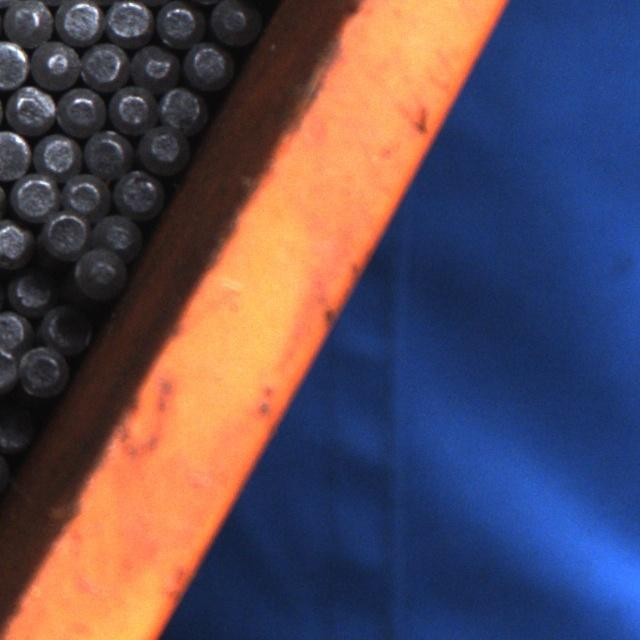tool: (70, 246, 126, 298), (37, 300, 92, 352), (15, 344, 66, 395), (56, 85, 105, 135), (30, 38, 79, 88), (112, 167, 162, 216), (11, 171, 60, 220), (182, 41, 231, 90), (5, 84, 55, 132), (136, 122, 184, 172), (80, 39, 129, 87), (39, 210, 88, 258), (207, 0, 258, 46), (6, 268, 54, 316), (82, 127, 130, 175), (157, 84, 205, 131), (110, 82, 156, 130), (33, 131, 80, 177), (132, 40, 179, 86), (61, 170, 107, 217), (2, 0, 52, 43), (154, 0, 200, 45), (55, 0, 102, 44), (92, 210, 140, 253), (104, 0, 151, 43), (0, 219, 33, 269), (0, 406, 33, 454), (0, 129, 29, 179), (0, 39, 29, 89), (0, 308, 30, 352)
